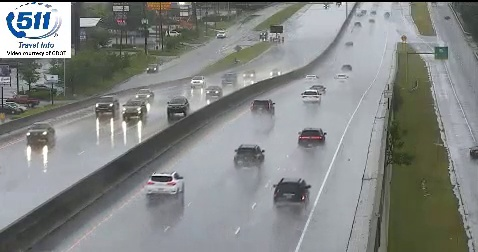car: (273, 179, 309, 204), (147, 172, 184, 194), (234, 144, 263, 165), (298, 128, 325, 147), (251, 99, 274, 114), (301, 90, 320, 101)
